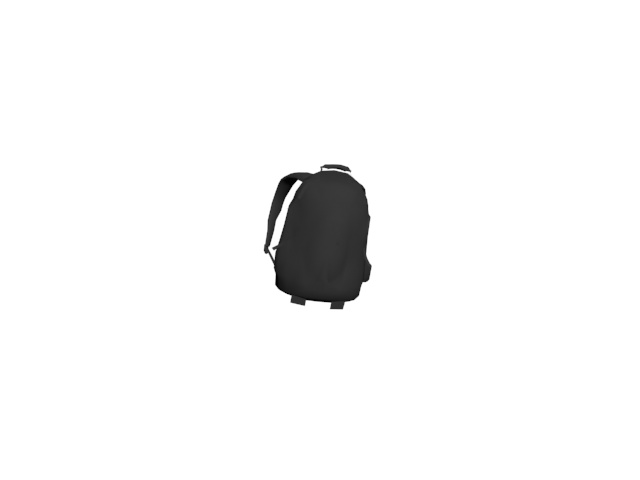back_pack: (257, 161, 376, 312)
